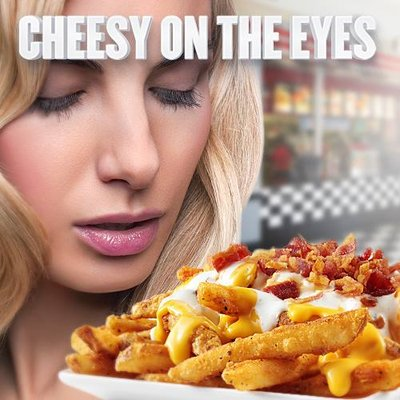burger: (54, 230, 399, 392)
